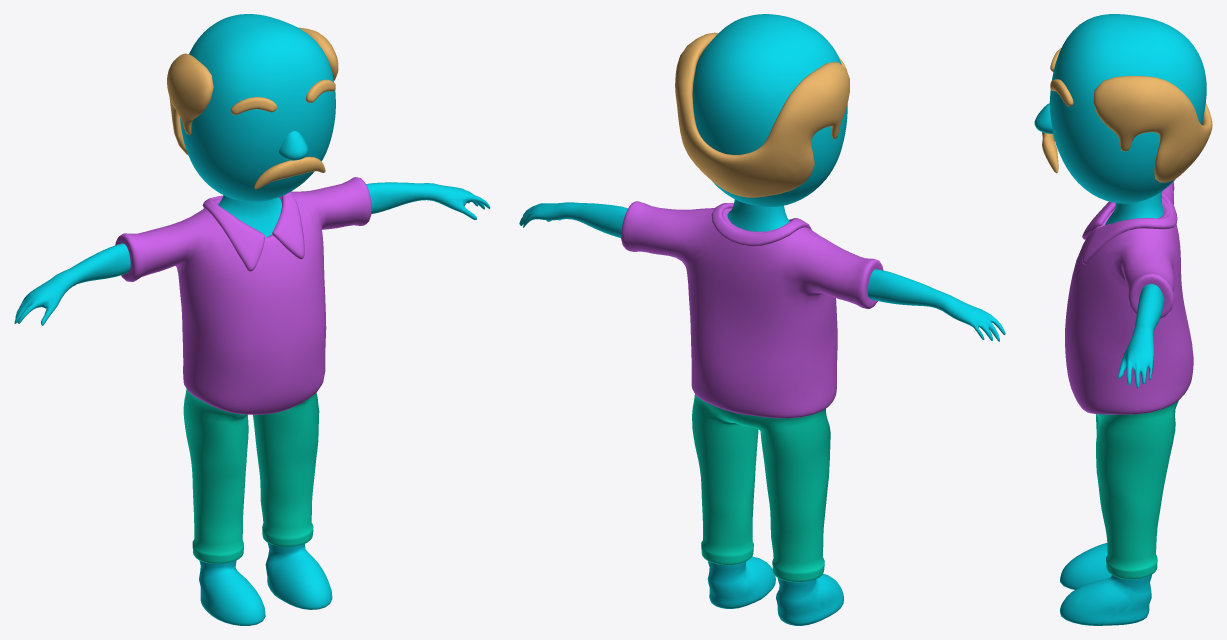
The model's file is uploads_files_2551386_dayı.fbx.
3 renders of one model, left to right at view 1: azimuth 30°, elevation 25°; view 2: azimuth 150°, elevation 25°; view 3: azimuth 270°, elevation 25°, orthographic. The views are drawn at different scales.
Visible parts, largest first — view 1: dayı_vucut, dayı_gomlek, dayı_pantolon, dayı_hair; view 2: dayı_gomlek, dayı_vucut, dayı_pantolon, dayı_hair; view 3: dayı_vucut, dayı_gomlek, dayı_pantolon, dayı_hair.
Boxes of the visible parts, box(x1,y1,x2,y2) form: dayı_vucut: box(14, 14, 490, 625); dayı_gomlek: box(115, 177, 371, 414); dayı_pantolon: box(183, 388, 319, 563); dayı_hair: box(167, 27, 338, 189); dayı_gomlek: box(621, 201, 883, 418); dayı_vucut: box(519, 14, 1005, 625); dayı_pantolon: box(692, 394, 830, 582); dayı_hair: box(675, 32, 849, 197); dayı_vucut: box(1034, 14, 1206, 625); dayı_gomlek: box(1065, 181, 1193, 414); dayı_pantolon: box(1096, 400, 1178, 579); dayı_hair: box(1042, 48, 1212, 182).
Bounding box in the file's own units: 7.11 × 8.25 × 2.3.
